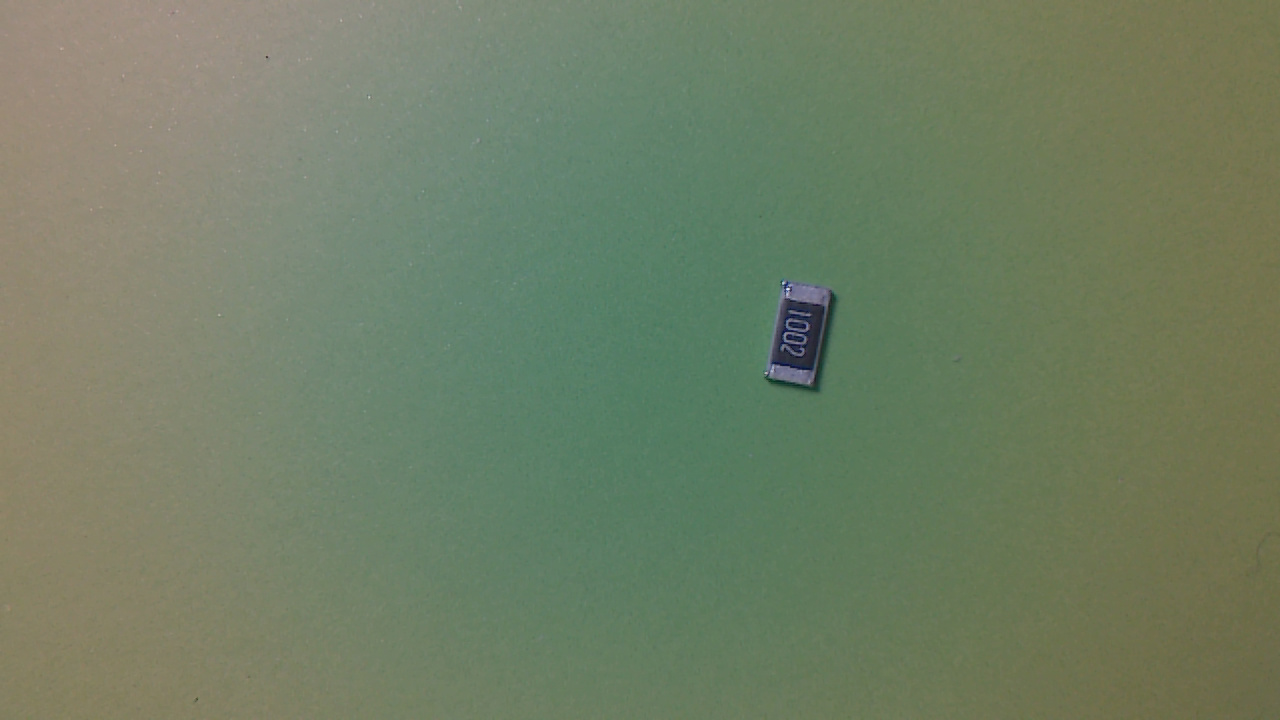Resistor: (761, 283, 849, 403)
